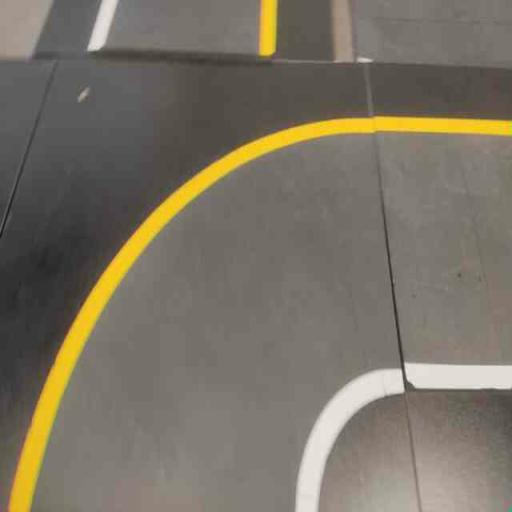right: (4, 102, 422, 511)
